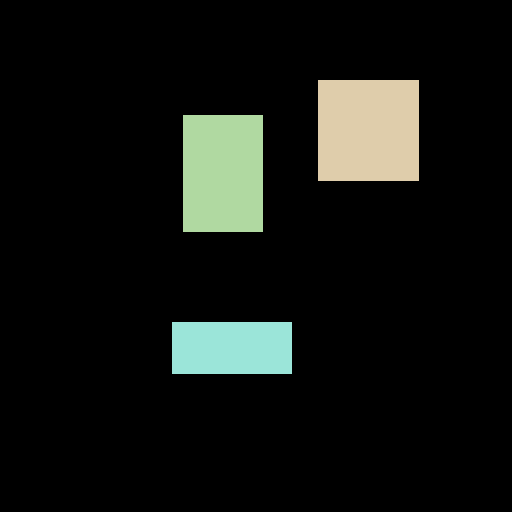rectangle: (183, 115, 262, 231), (172, 322, 291, 373)
square: (318, 80, 418, 180)
